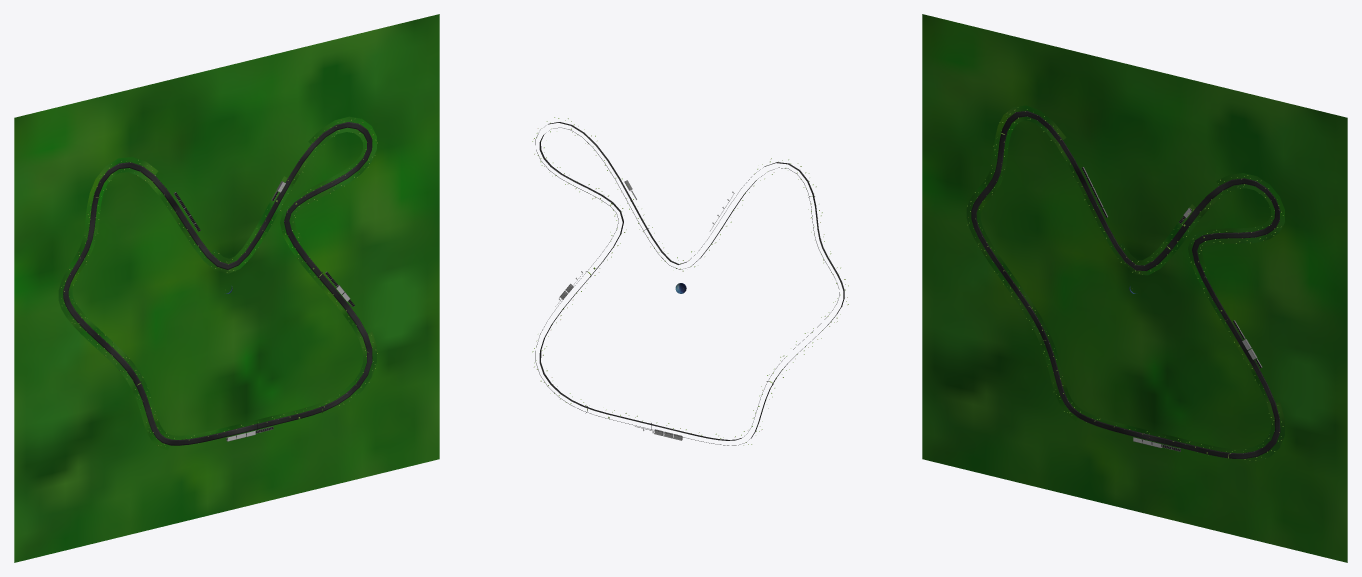
Rendered from racetrack.gltf.
3 renders of one model, left to right at view 1: azimuth 30°, elevation 25°; view 2: azimuth 150°, elevation 25°; view 3: azimuth 330°, elevation 25°, orthographic.
Visible parts, largest first — view 1: green_outside, green_inside, track, track.001; view 2: track, track.001; view 3: green_outside, green_inside, track, track.001.
Part boxes in pixels (left/top/right/bottom): green_outside: left=14, top=14, right=439, bottom=562; green_inside: left=58, top=116, right=376, bottom=450; track: left=63, top=122, right=372, bottom=445; track.001: left=63, top=122, right=372, bottom=445; track: left=539, top=122, right=844, bottom=440; track.001: left=535, top=127, right=844, bottom=445; green_outside: left=922, top=14, right=1347, bottom=562; green_inside: left=966, top=105, right=1284, bottom=463; track: left=971, top=111, right=1280, bottom=458; track.001: left=971, top=110, right=1280, bottom=458.
Size of the model in its own units: 2037 by 2037 by 45.81.
